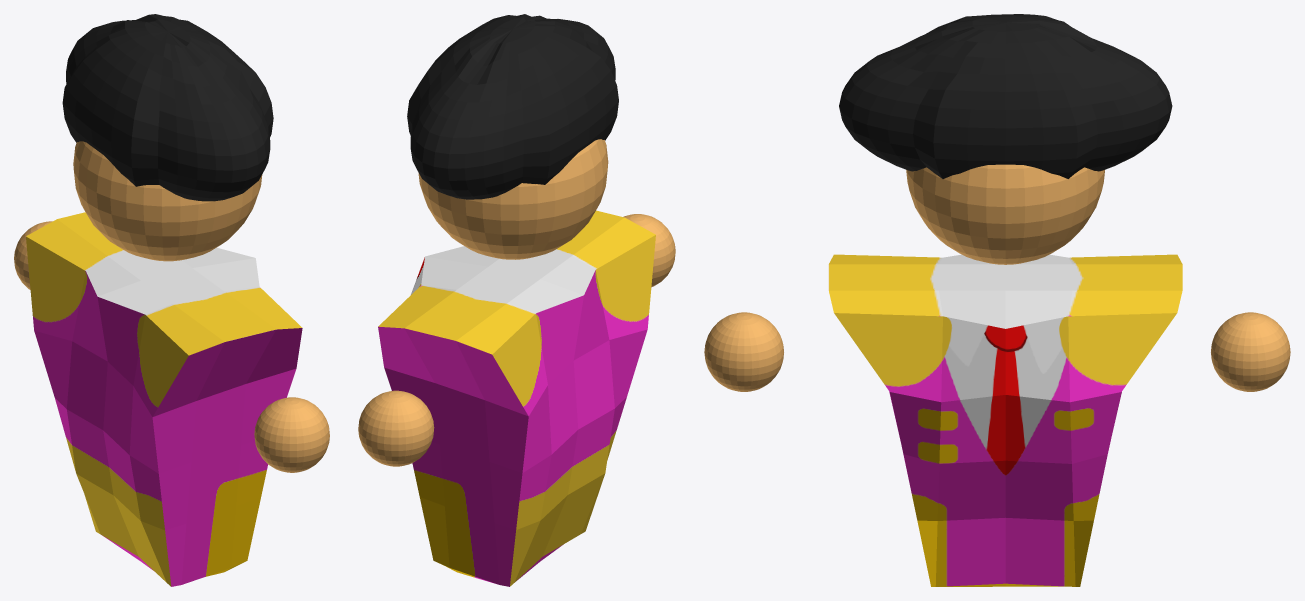
Rendered from matador_blue 1.fbx.
3 views of the same model, side by side, from view 1: azimuth 30°, elevation 25°; view 2: azimuth 150°, elevation 25°; view 3: azimuth 270°, elevation 25° (orthographic). The views are drawn at different scales.
Parts seen in each view (by area): view 1: Cube, Sphere.001, Sphere, Sphere.002, Sphere.003; view 2: Cube, Sphere.001, Sphere, Sphere.003, Sphere.002; view 3: Cube, Sphere.001, Sphere, Sphere.002, Sphere.003.
Boxes of the visible parts, bbox=[...] form: Cube: bbox=[26, 212, 302, 586]; Sphere.001: bbox=[62, 14, 273, 201]; Sphere: bbox=[73, 141, 262, 261]; Sphere.002: bbox=[254, 397, 329, 472]; Sphere.003: bbox=[14, 221, 52, 289]; Cube: bbox=[378, 210, 655, 586]; Sphere.001: bbox=[407, 14, 618, 199]; Sphere: bbox=[418, 139, 608, 259]; Sphere.003: bbox=[358, 390, 434, 466]; Sphere.002: bbox=[623, 214, 675, 287]; Cube: bbox=[828, 254, 1182, 586]; Sphere.001: bbox=[839, 14, 1172, 178]; Sphere: bbox=[906, 164, 1104, 264]; Sphere.002: bbox=[704, 312, 783, 391]; Sphere.003: bbox=[1211, 312, 1290, 391].
Bounding box in the file's own units: 129 × 372 × 359.
